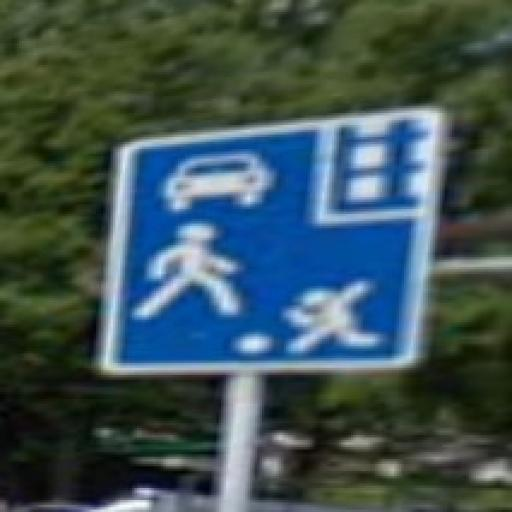traffic_sign: (97, 107, 446, 381)
